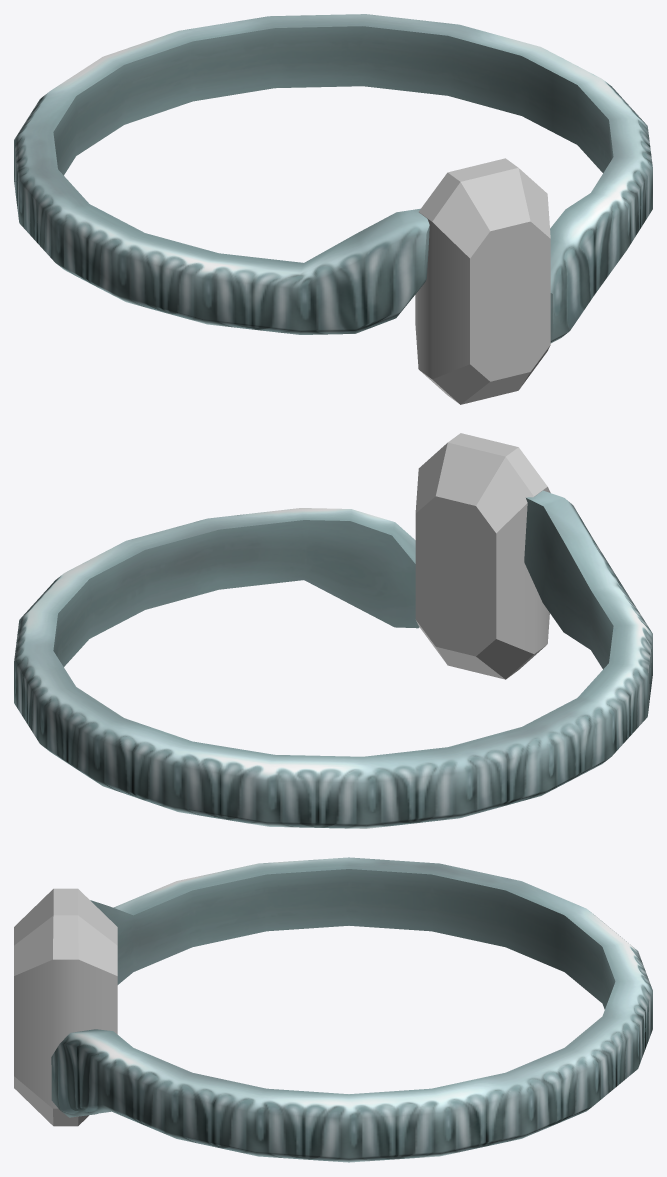
Rendered from ring_silver_10.fbx.
The picture shows the model from 3 angles, top to bottom: view 1: azimuth 30°, elevation 25°; view 2: azimuth 150°, elevation 25°; view 3: azimuth 270°, elevation 25°; orthographic projection. The views are drawn at different scales.
Parts seen in each view (by area): view 1: ring_silver_10; view 2: ring_silver_10; view 3: ring_silver_10.
Part boxes in pixels (x1,y1,x2,y2): ring_silver_10: (14,14,652,404); ring_silver_10: (14,433,652,828); ring_silver_10: (14,857,652,1162).
Size of the model in its own units: 2.04 by 0.783 by 2.15.
